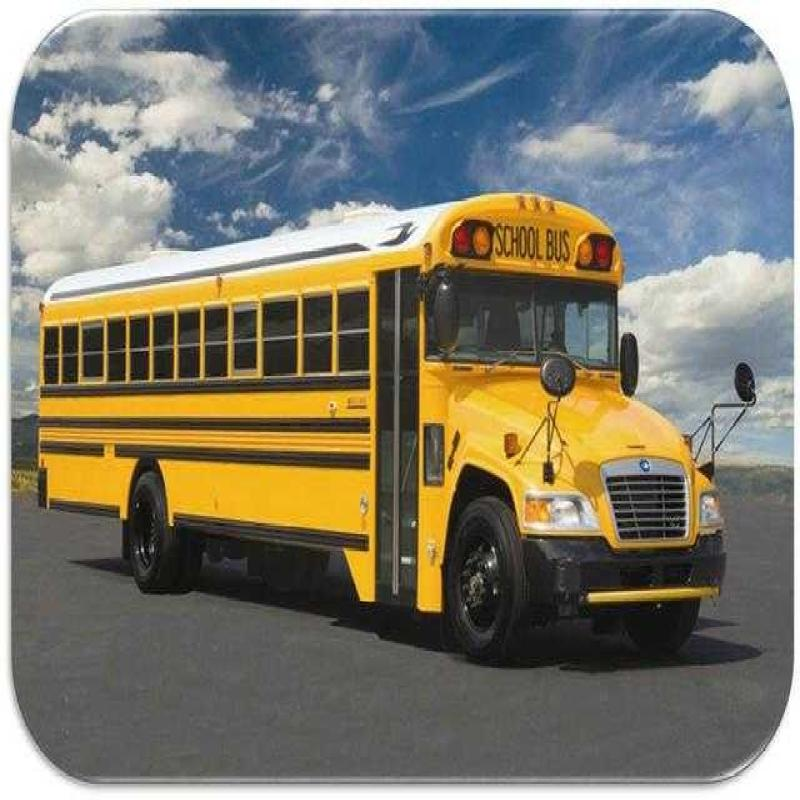bus: (36, 158, 744, 703)
